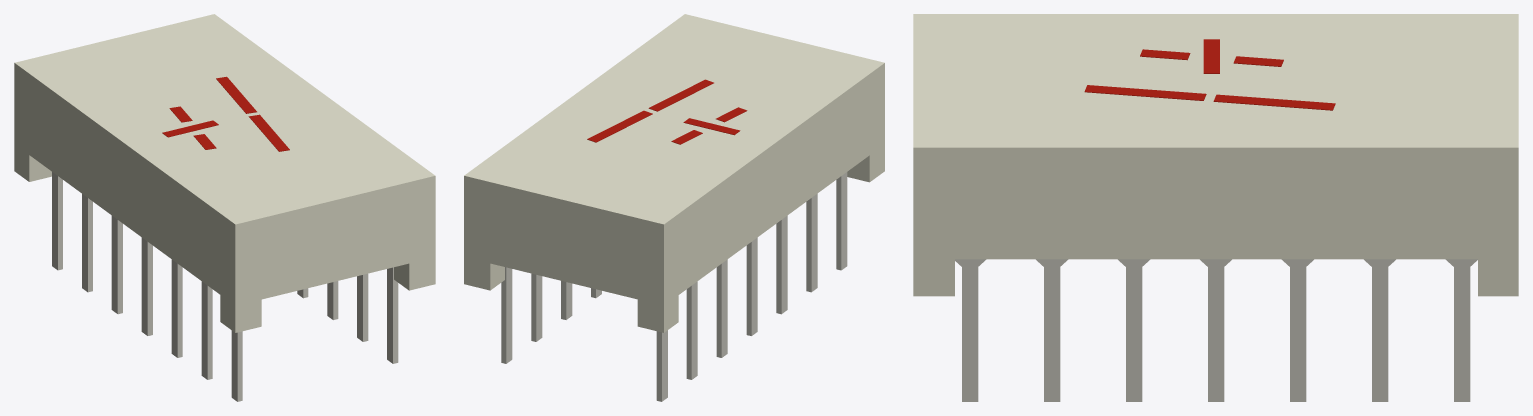
The model's file is kc-man73a.glb.
The picture shows the model from 3 angles, left to right: view 1: azimuth 30°, elevation 25°; view 2: azimuth 150°, elevation 25°; view 3: azimuth 270°, elevation 25°; orthographic projection. The views are drawn at different scales.
Parts seen in each view (by area): view 1: 0.75_0.75_0.6666666666666666_0, 0.6666666666666666_0.6666666666666666_0.5833333333333334_0.8, 0.4166666666666667_0_0_0; view 2: 0.75_0.75_0.6666666666666666_0, 0.6666666666666666_0.6666666666666666_0.5833333333333334_0.8, 0.4166666666666667_0_0_0; view 3: 0.75_0.75_0.6666666666666666_0, 0.6666666666666666_0.6666666666666666_0.5833333333333334_0.8, 0.4166666666666667_0_0_0.
Boxes of the visible parts, bbox=[...] form: 0.75_0.75_0.6666666666666666_0: bbox=[14, 14, 435, 332]; 0.6666666666666666_0.6666666666666666_0.5833333333333334_0.8: bbox=[52, 172, 398, 401]; 0.4166666666666667_0_0_0: bbox=[162, 76, 289, 151]; 0.75_0.75_0.6666666666666666_0: bbox=[464, 14, 884, 332]; 0.6666666666666666_0.6666666666666666_0.5833333333333334_0.8: bbox=[501, 172, 847, 401]; 0.4166666666666667_0_0_0: bbox=[587, 79, 747, 144]; 0.75_0.75_0.6666666666666666_0: bbox=[913, 14, 1518, 296]; 0.6666666666666666_0.6666666666666666_0.5833333333333334_0.8: bbox=[955, 259, 1477, 401]; 0.4166666666666667_0_0_0: bbox=[1084, 39, 1335, 110].
Size of the model in its own units: 0.98 by 0.916 by 1.88.
